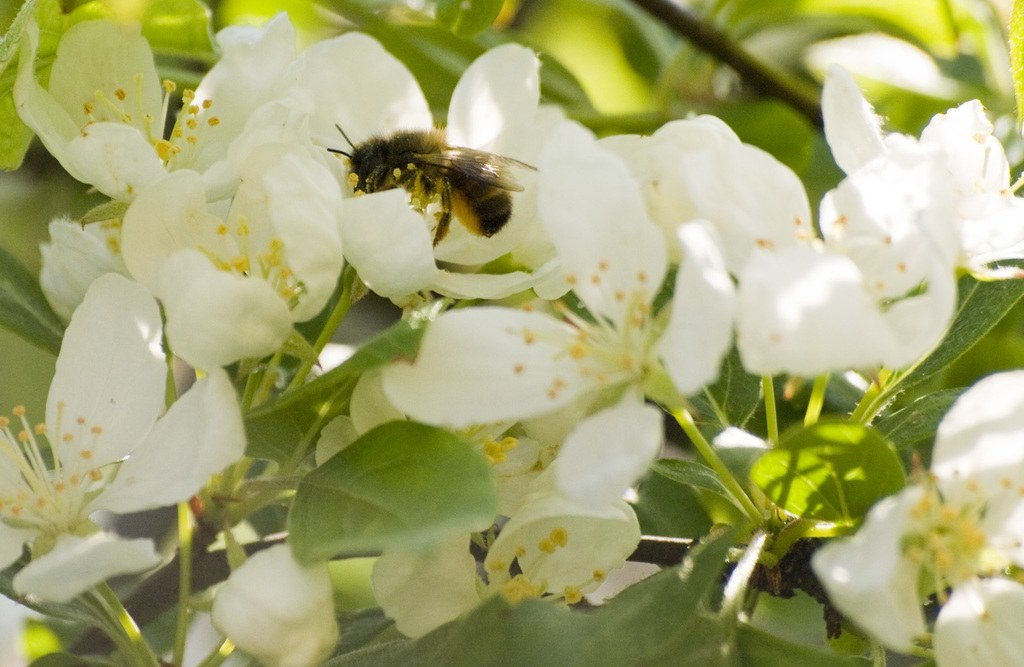bee: (325, 110, 546, 258)
insect: (0, 7, 1023, 666), (805, 365, 1023, 666), (490, 493, 659, 613)
